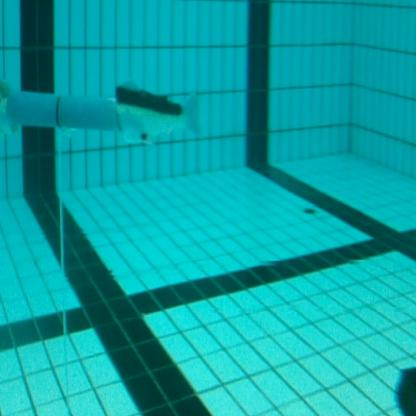tail: (113, 79, 203, 149)
